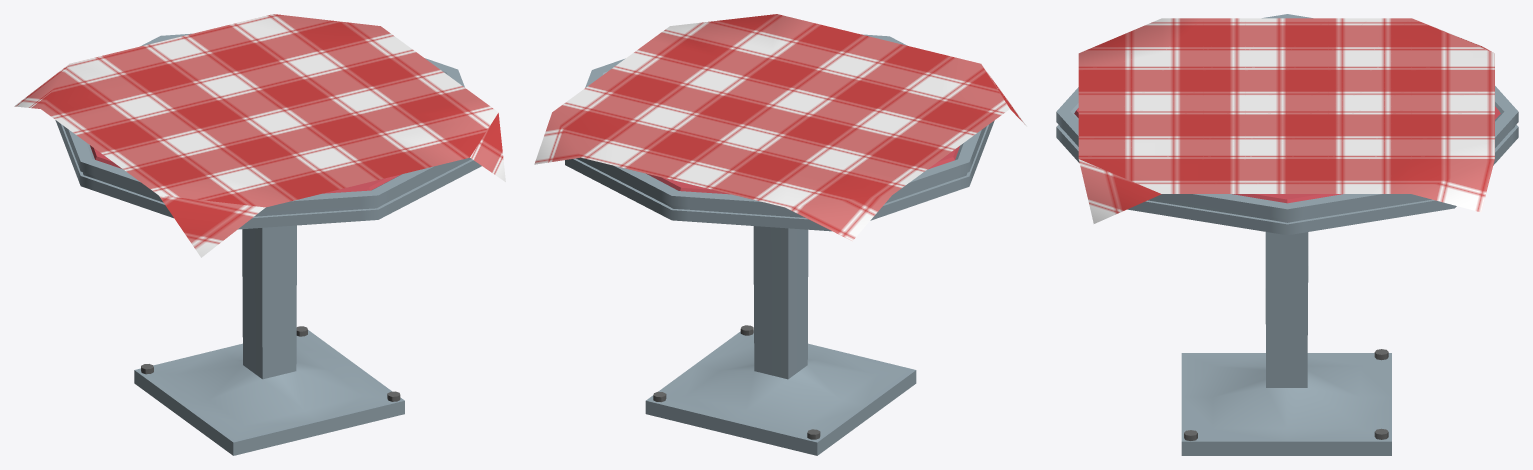
Rendered from red table.fbx.
3 renders of one model, left to right at view 1: azimuth 30°, elevation 25°; view 2: azimuth 150°, elevation 25°; view 3: azimuth 270°, elevation 25°, orthographic. The views are drawn at different scales.
Visible parts, largest first — view 1: pPlane1, pCube7; view 2: pPlane1, pCube7; view 3: pPlane1, pCube7.
Boxes of the visible parts, <box> form: pPlane1: <box>14,14,505,257</box>; pCube7: <box>55,33,481,455</box>; pPlane1: <box>534,14,1026,241</box>; pCube7: <box>565,34,994,455</box>; pPlane1: <box>1078,18,1494,223</box>; pCube7: <box>1056,14,1518,455</box>.
Size of the model in its own units: 14 by 10.21 by 14.
